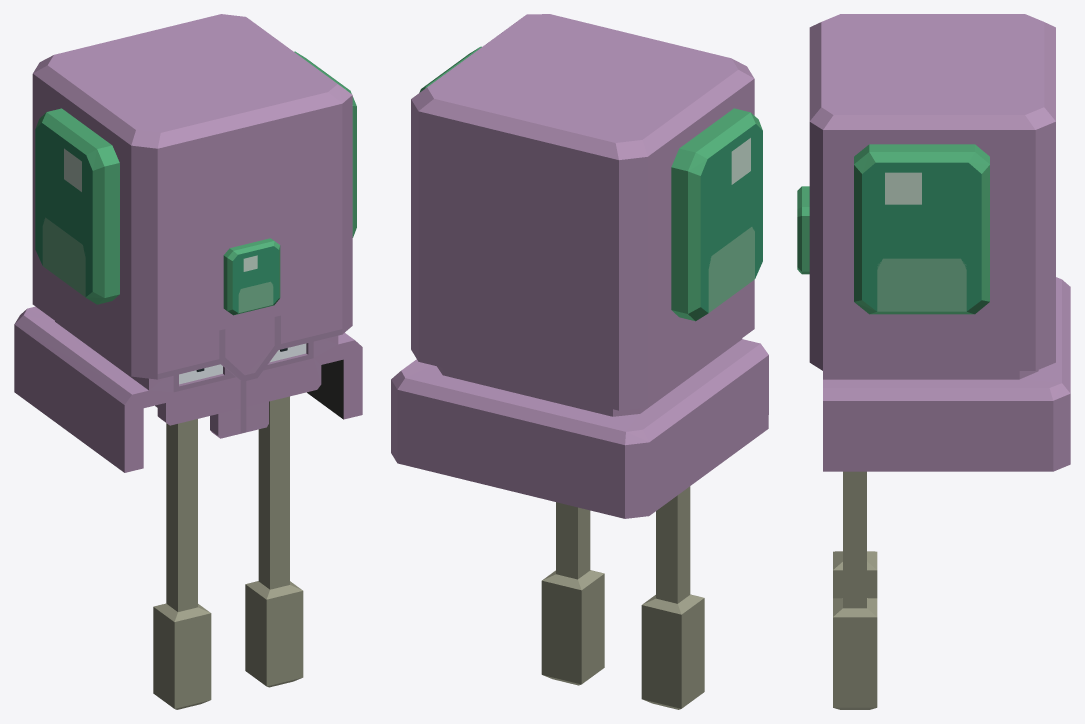
File: model_shiny.obj
3 views of the same model, side by side, from view 1: azimuth 30°, elevation 25°; view 2: azimuth 150°, elevation 25°; view 3: azimuth 270°, elevation 25° (orthographic). The views are drawn at different scales.
Parts seen in each view (by area): view 1: 0072_tentacool_shiny; view 2: 0072_tentacool_shiny; view 3: 0072_tentacool_shiny.
Boxes of the visible parts, left/top/right/bottom form: 0072_tentacool_shiny: left=14, top=14, right=362, bottom=709; 0072_tentacool_shiny: left=391, top=14, right=768, bottom=709; 0072_tentacool_shiny: left=797, top=14, right=1070, bottom=709.
Size of the model in its own units: 0.976 by 2.08 by 0.8366.
Materials: 1 (1 with a texture image).
